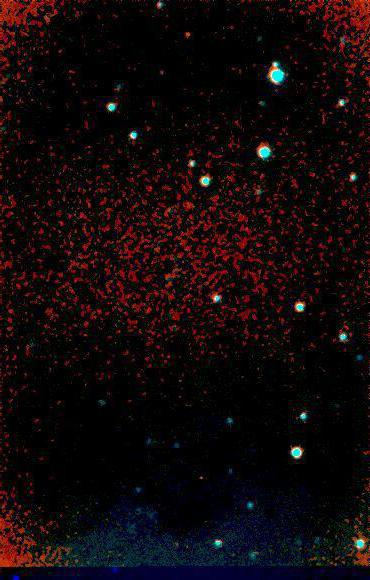star: (173, 19, 203, 49)
